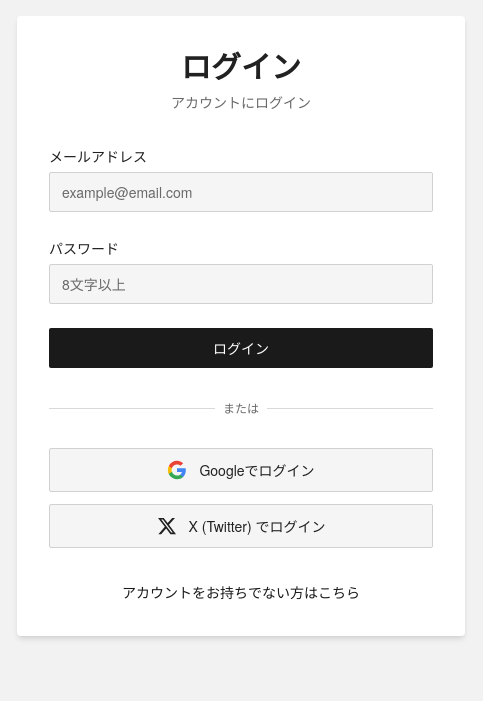
it: LoginPage › displays generic error when signIn throws exception
Type "bad@test.com" into the field labelled "メールアドレス". click: (241, 192)
box: [49,172,433,212]
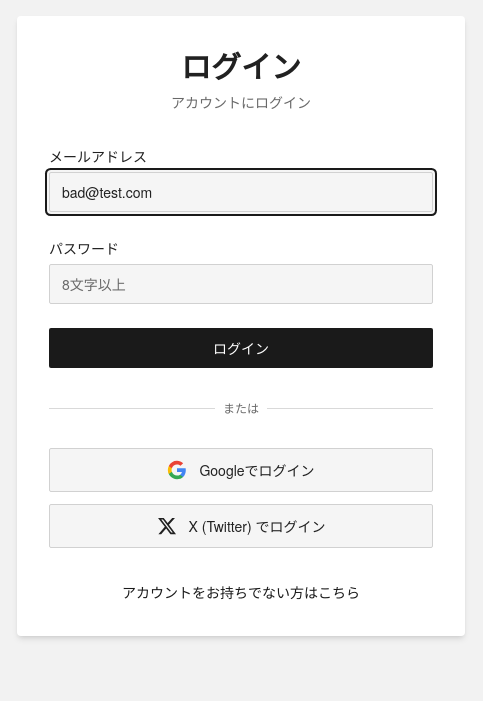
Type "wrongpass1" into the password field labelled "パスワード". click: (241, 284)
box: [49,264,433,304]
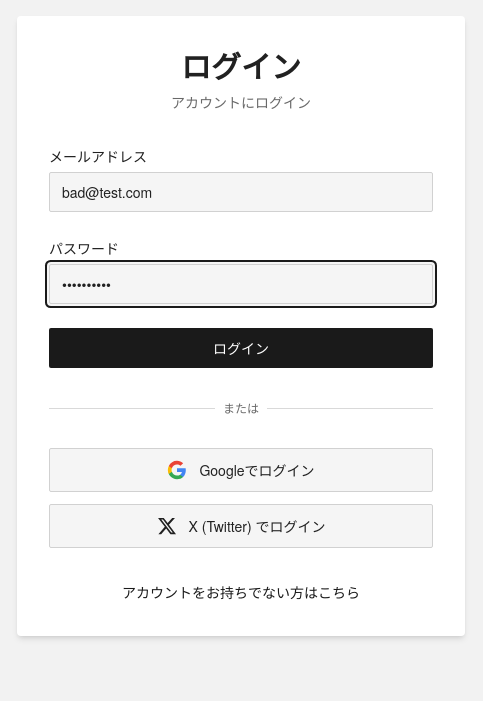
Click the button "ログイン". click: (241, 348)
box: [49,328,433,368]
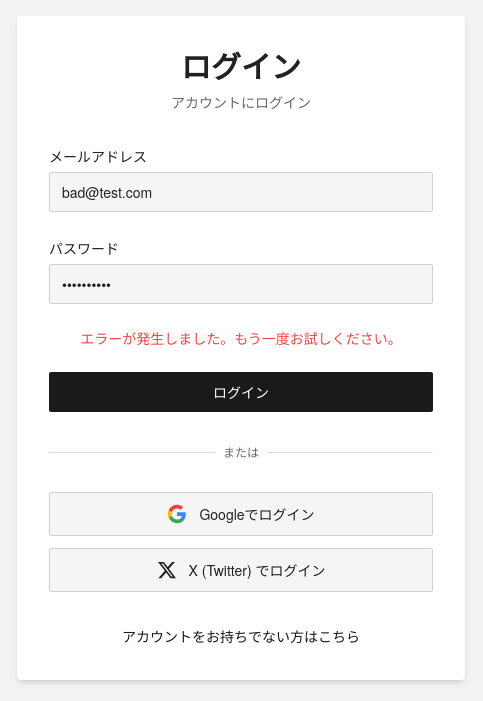
Expected: the text "エラーが発生しました。もう一度お試しください。" is shown, [80,328,402,348]
